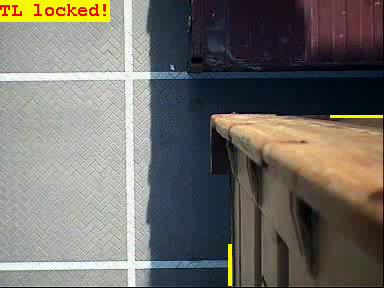groundmarker_2: (147, 161, 197, 188), (147, 33, 197, 60)
